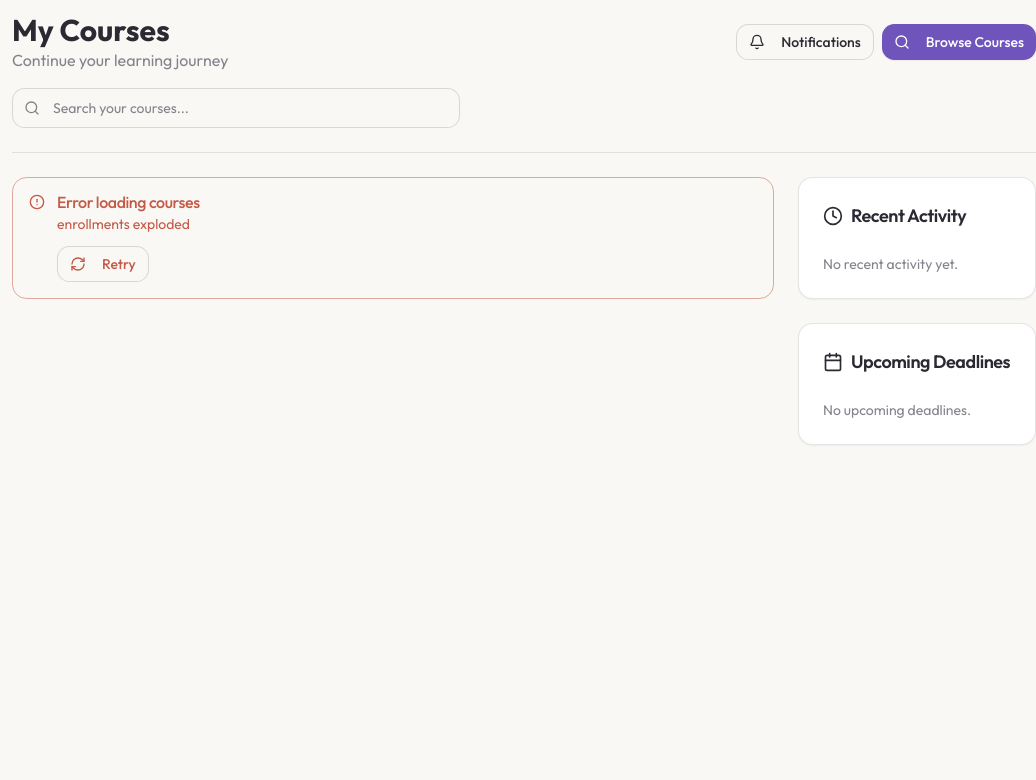
Scenario: EnrolledCoursesDashboard › renders an error state (not just a toast) when the main fetch fails, and retries
Expected: the message "Error loading courses enrollments exploded Retry" is shown, [12,177,774,299]
Expected: the heading "Error loading courses" is shown, [57,192,200,212]
Click the button "Retry": click(103, 264) [57,246,149,282]
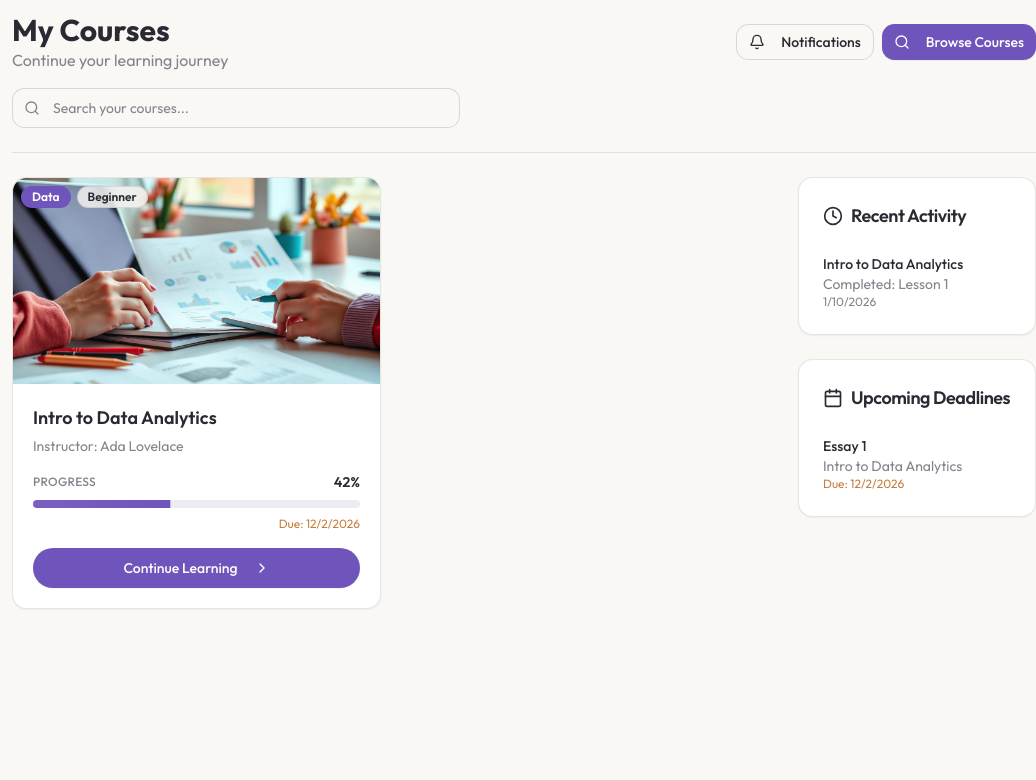
Expected: the message "Error loading courses enrollments exploded Retry" is gone
